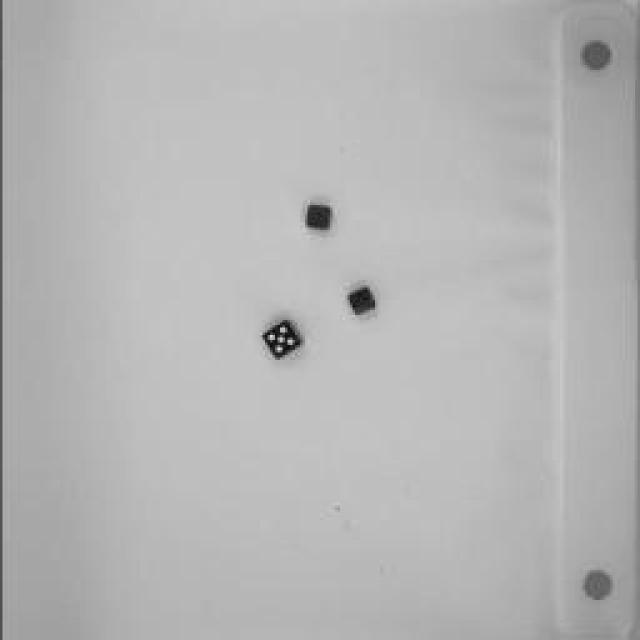dice_3: (345, 285, 380, 315)
dice_5: (261, 320, 304, 360)
dice_6: (304, 205, 331, 230)
